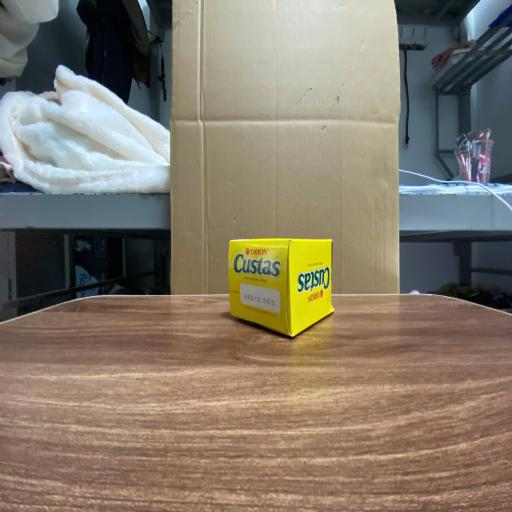custas: (228, 238, 335, 337)
